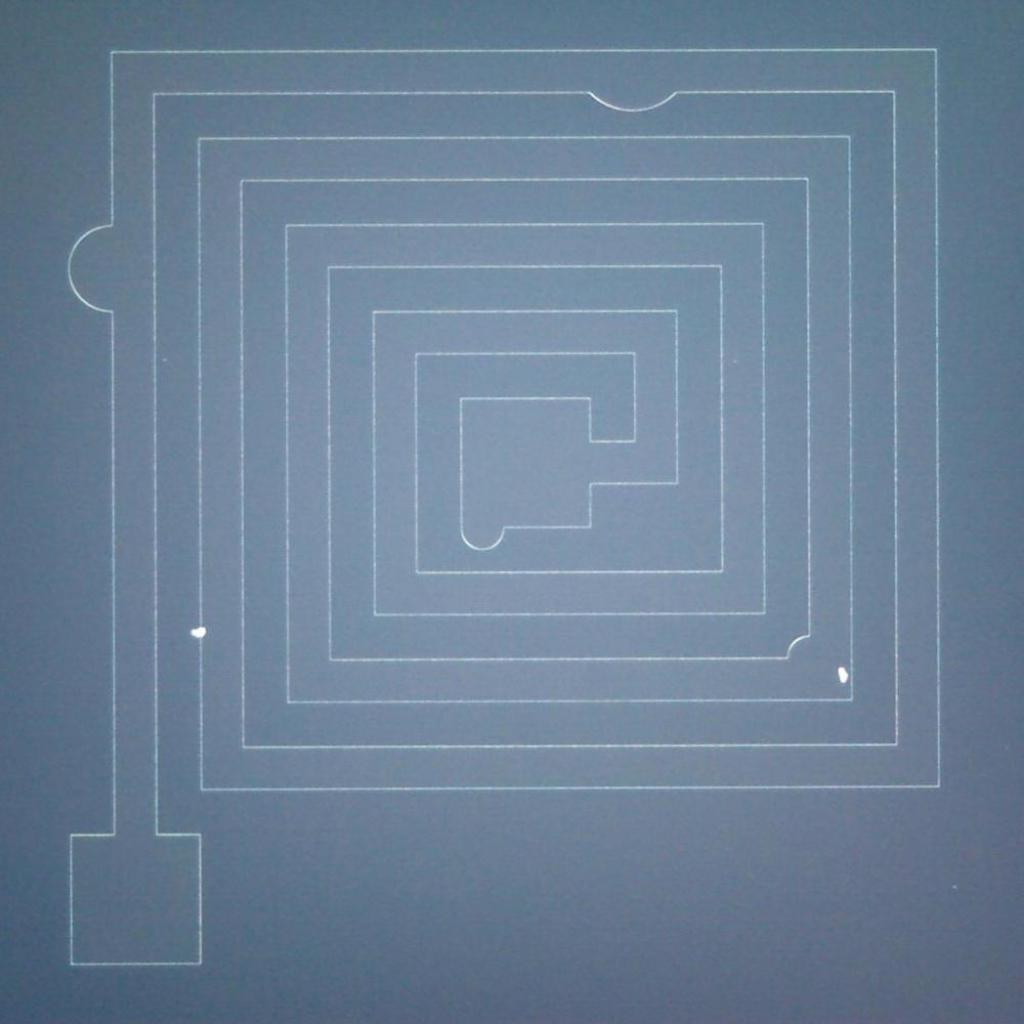curve circuit: (62, 209, 126, 319), (577, 79, 687, 123), (456, 516, 515, 558), (772, 620, 820, 667)
spot: (187, 616, 214, 645), (830, 662, 853, 689)
